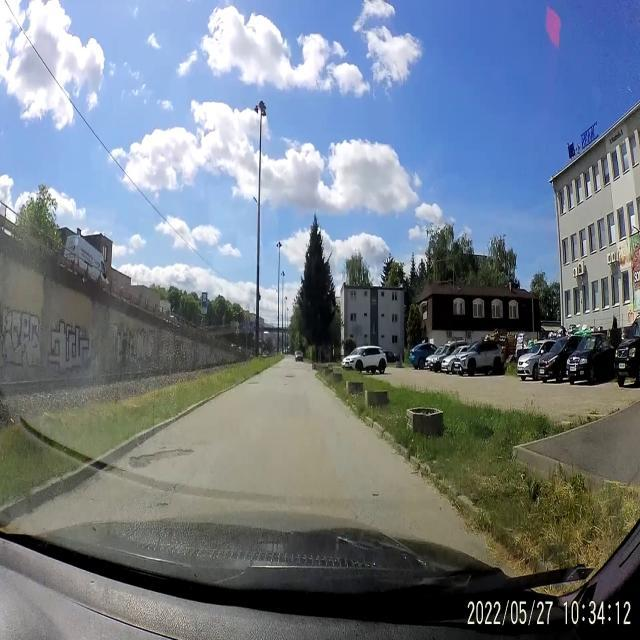Pothole: (128, 444, 200, 472), (149, 498, 173, 510), (248, 380, 260, 388), (284, 372, 295, 379)
